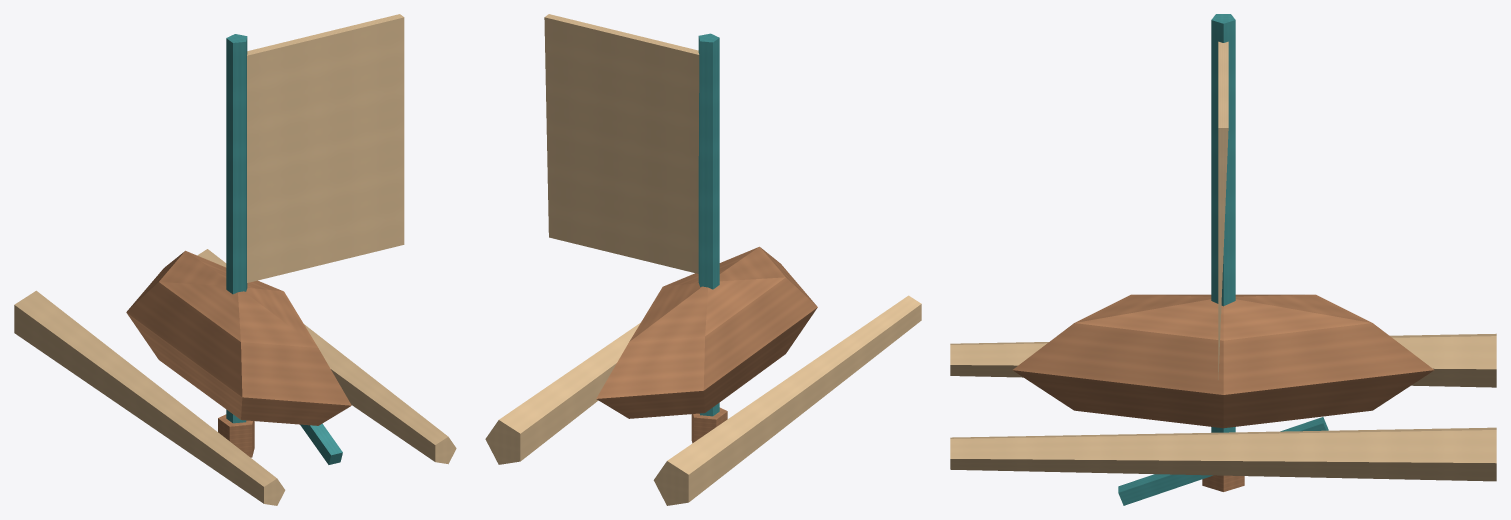
File: atlas100-s096-a01.lod1.glb
3 views of the same model, side by side, from view 1: azimuth 30°, elevation 25°; view 2: azimuth 150°, elevation 25°; view 3: azimuth 270°, elevation 25° (orthographic). The views are drawn at different scales.
Parts seen in each view (by area): view 1: atlas100-s096-a01:part-007, atlas100-s096-a01:part-000, atlas100-s096-a01:part-003, atlas100-s096-a01:part-005, atlas100-s096-a01:part-004, atlas100-s096-a01:part-006, atlas100-s096-a01:part-002; view 2: atlas100-s096-a01:part-007, atlas100-s096-a01:part-000, atlas100-s096-a01:part-003, atlas100-s096-a01:part-004, atlas100-s096-a01:part-005, atlas100-s096-a01:part-006; view 3: atlas100-s096-a01:part-000, atlas100-s096-a01:part-004, atlas100-s096-a01:part-003, atlas100-s096-a01:part-005, atlas100-s096-a01:part-007, atlas100-s096-a01:part-002.
Boxes of the visible parts, x1,y1,x2,y2 form: atlas100-s096-a01:part-007: (247,14,404,282); atlas100-s096-a01:part-000: (126,250,351,425); atlas100-s096-a01:part-003: (14,290,285,505); atlas100-s096-a01:part-005: (226,34,247,423); atlas100-s096-a01:part-004: (197,249,456,464); atlas100-s096-a01:part-006: (218,414,254,457); atlas100-s096-a01:part-002: (300,423,342,464); atlas100-s096-a01:part-007: (544,14,699,273); atlas100-s096-a01:part-000: (596,246,817,418); atlas100-s096-a01:part-003: (653,295,921,505); atlas100-s096-a01:part-004: (485,323,640,464); atlas100-s096-a01:part-005: (698,33,719,416); atlas100-s096-a01:part-006: (691,407,727,443); atlas100-s096-a01:part-000: (1012,294,1434,428); atlas100-s096-a01:part-004: (950,427,1496,481); atlas100-s096-a01:part-003: (950,333,1496,387); atlas100-s096-a01:part-005: (1211,14,1235,432); atlas100-s096-a01:part-007: (1218,41,1228,379); atlas100-s096-a01:part-002: (1118,417,1328,505).
Size of the model in its own units: 2.02 by 3 by 3.2.
Materials: 3 (3 with a texture image).
